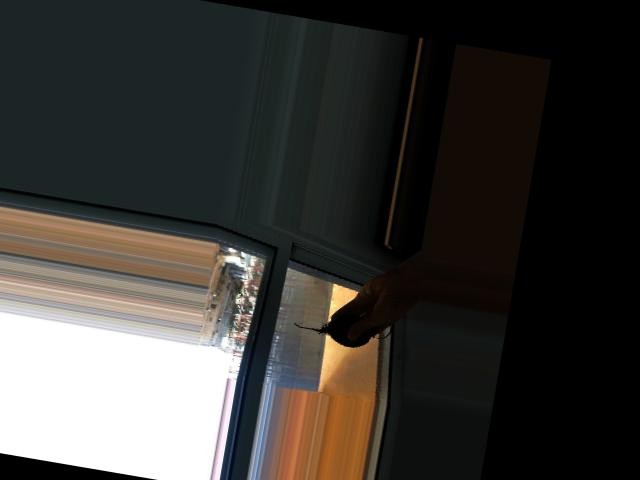beet: (291, 295, 394, 353)
